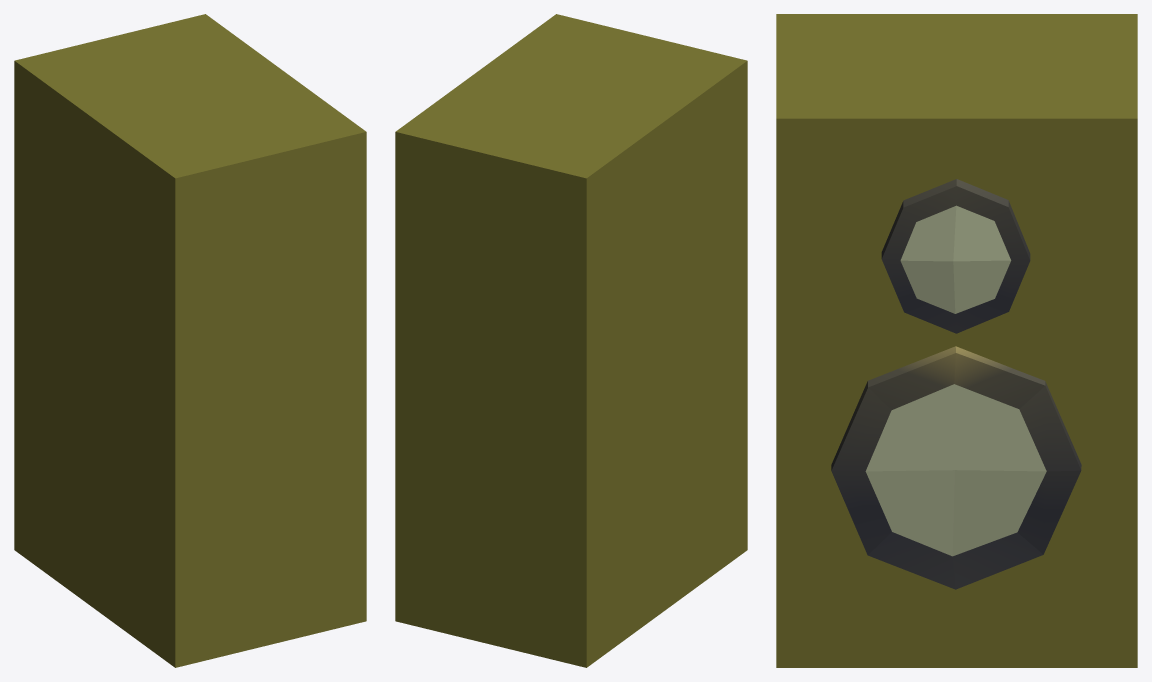
The model's file is Garage_Speaker.fbx.
3 renders of one model, left to right at view 1: azimuth 30°, elevation 25°; view 2: azimuth 150°, elevation 25°; view 3: azimuth 270°, elevation 25°, orthographic. The views are drawn at different scales.
Visible parts, largest first — view 1: Garage_Speaker; view 2: Garage_Speaker; view 3: Garage_Speaker.
Part boxes in pixels (bbox=[...]): Garage_Speaker: bbox=[14, 14, 366, 667]; Garage_Speaker: bbox=[395, 14, 747, 667]; Garage_Speaker: bbox=[776, 14, 1137, 667].
Bounding box in the file's own units: 32.71 × 72.7 × 43.33.
